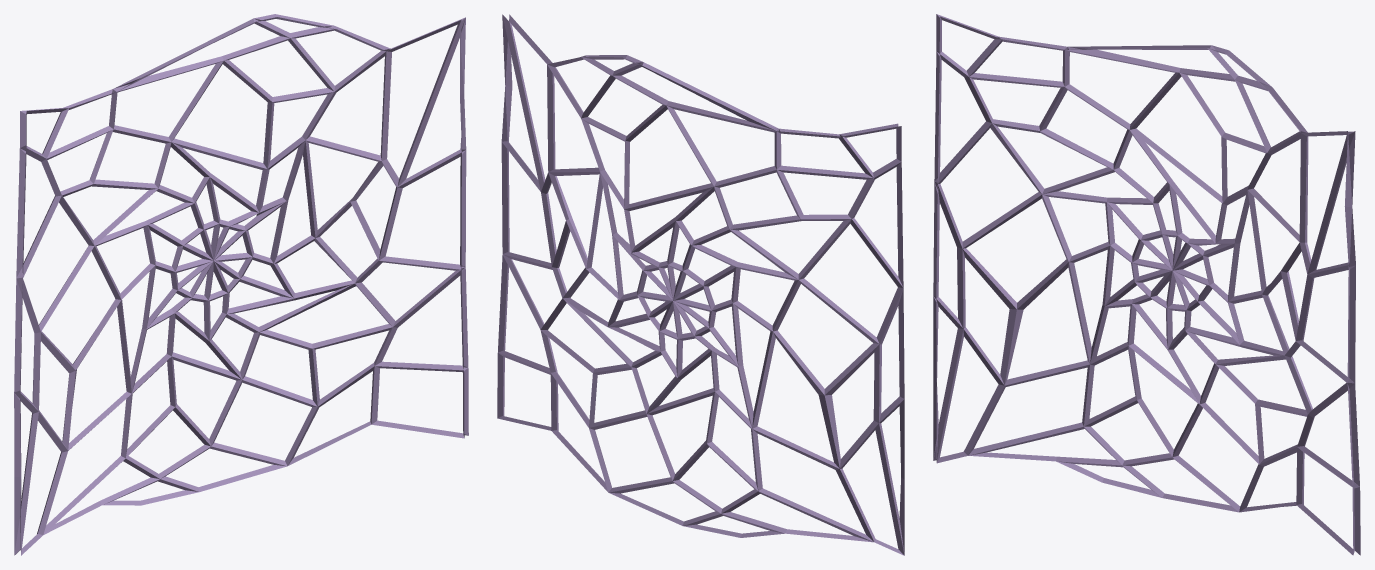
The model's file is ENV_Spiderweb_Placeholder2.fbx.
3 renders of one model, left to right at view 1: azimuth 30°, elevation 25°; view 2: azimuth 150°, elevation 25°; view 3: azimuth 330°, elevation 25°, orthographic. The views are drawn at different scales.
Visible parts, largest first — view 1: spider web; view 2: spider web; view 3: spider web.
Boxes of the visible parts, left/top/right/bottom form: spider web: left=14, top=14, right=468, bottom=555; spider web: left=497, top=14, right=904, bottom=555; spider web: left=933, top=14, right=1360, bottom=555.
Bounding box in the file's own units: 11.75 × 68.75 × 69.45.
